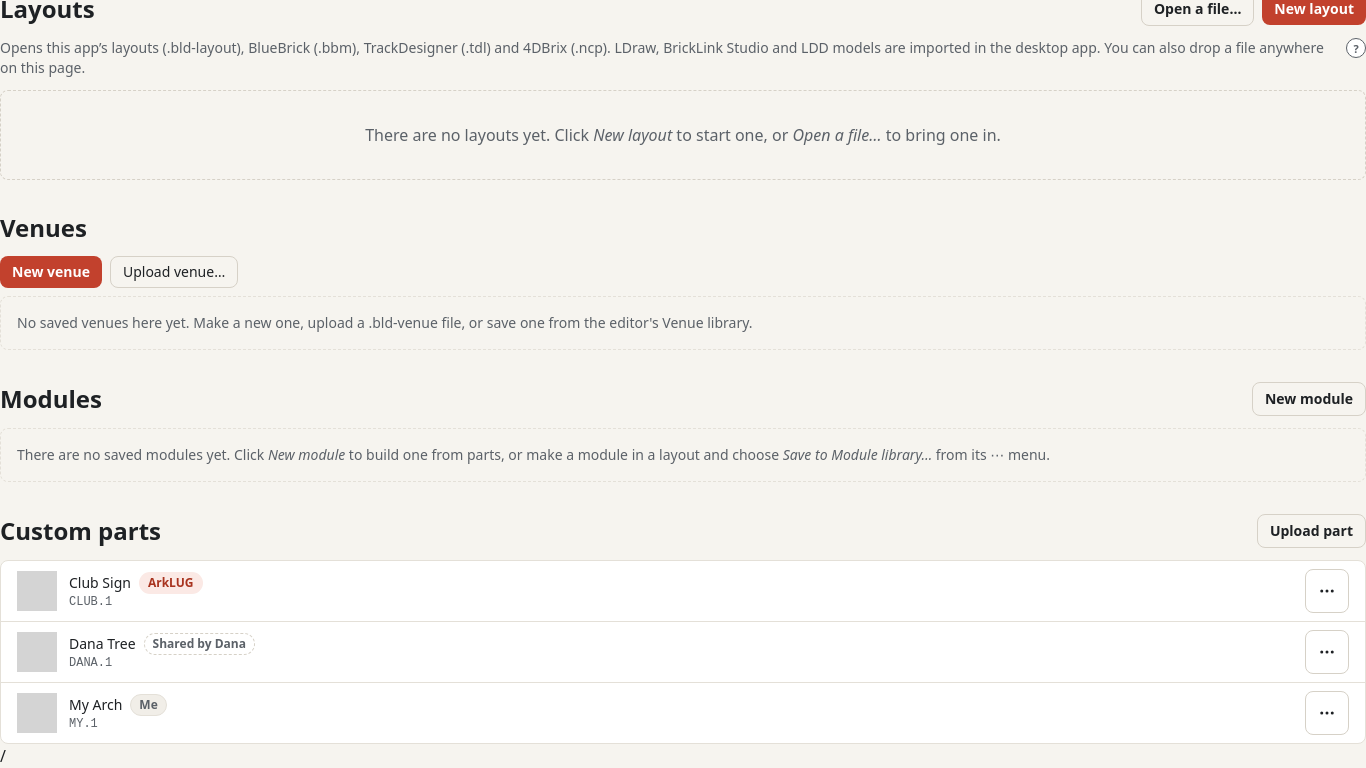
Scenario: Custom parts on the home page › the ⋯ menu shares a part with people: Share for mine, People with access for others
The image size is (1366, 768).
(page scrolled)
Click the button named "More for MY.1": (1327, 713) [1305, 691, 1349, 735]
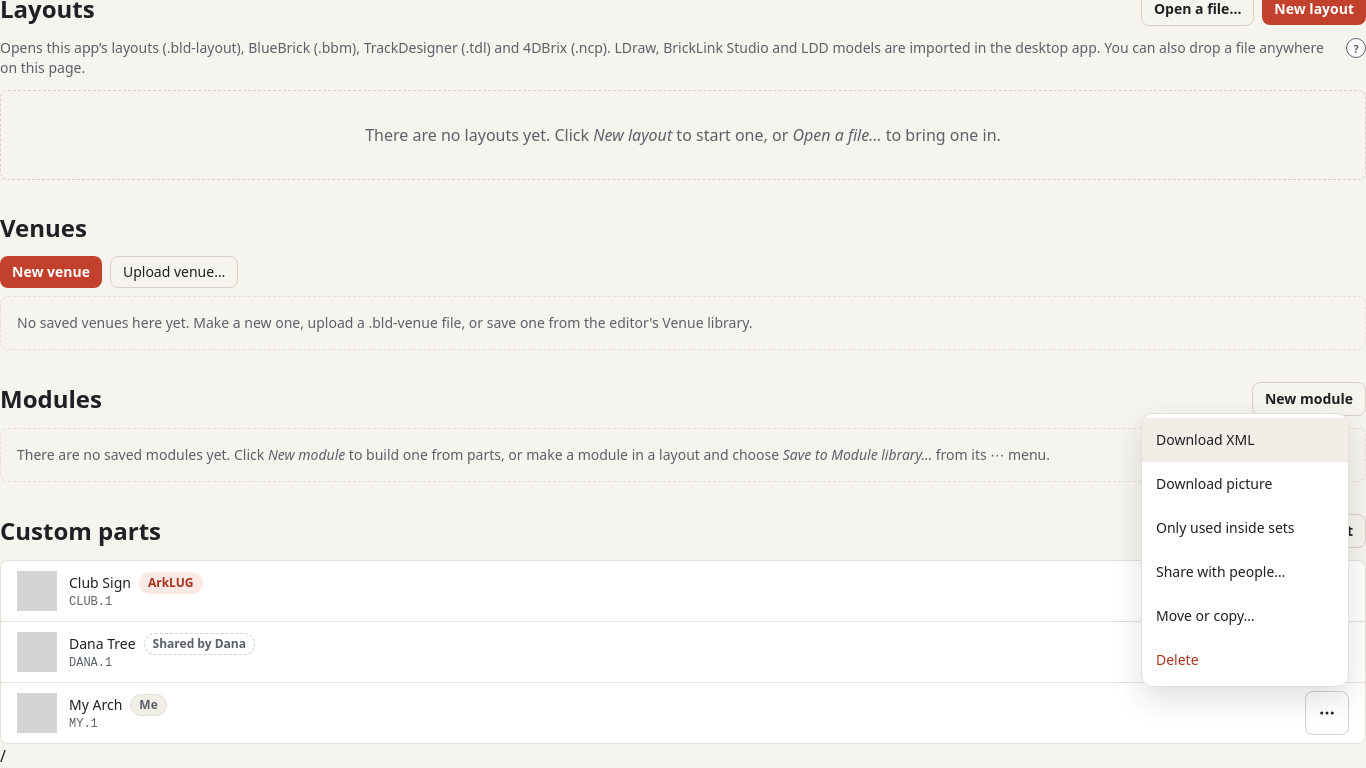
Click the menu item "Share with people…": (1245, 572) [1142, 550, 1348, 594]
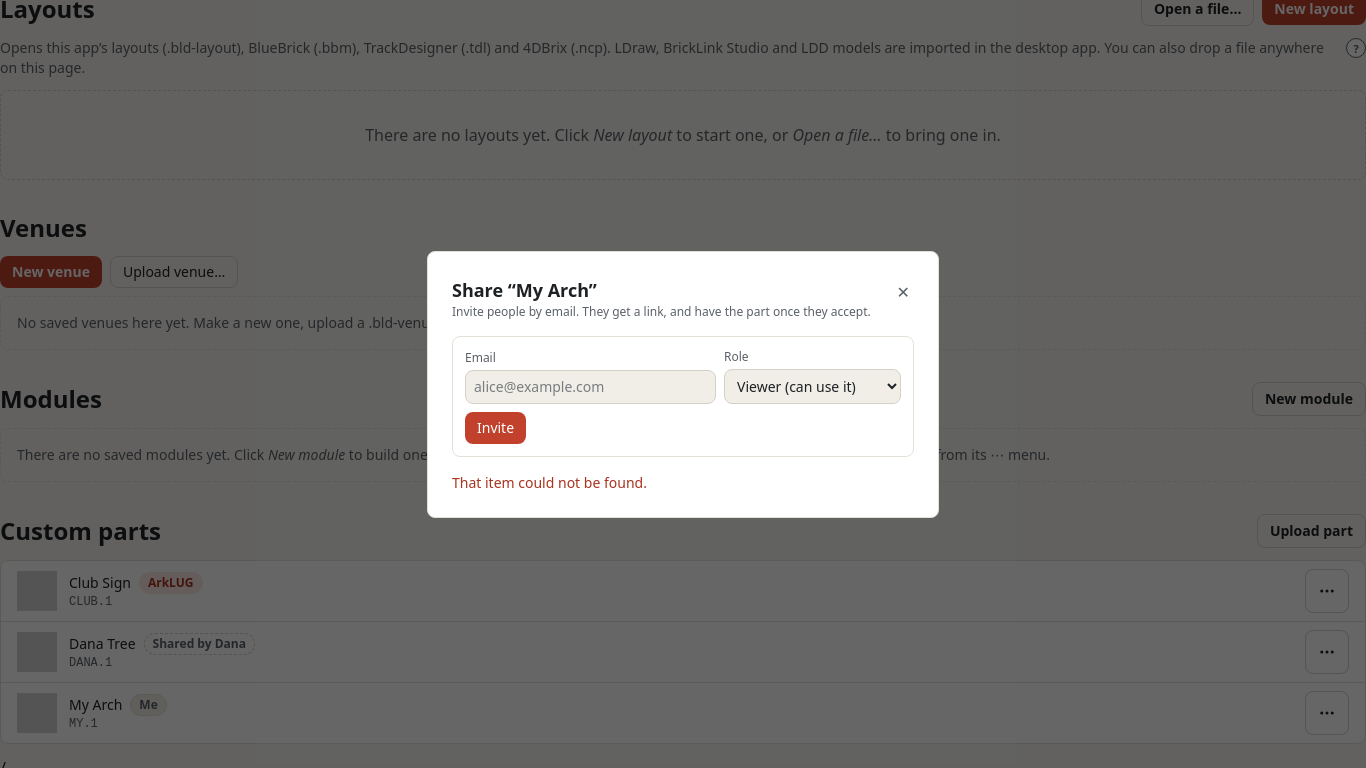
Result: the dialog named "Share My Arch" is shown at [427, 250, 939, 518]
Result: the button "Invite" is shown at [465, 412, 526, 444]
Click the button named "Close": (903, 292) [893, 276, 914, 308]
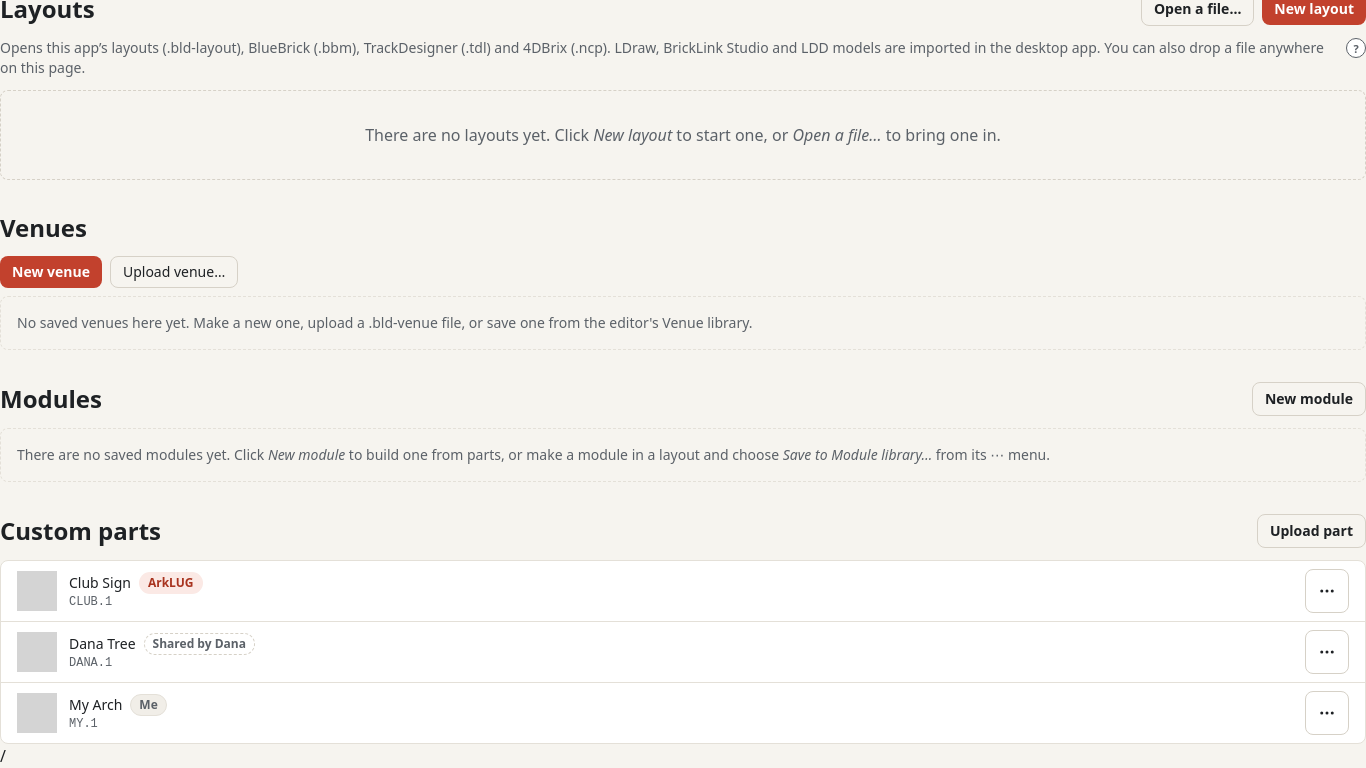
Click the button named "More for DANA.1": (1327, 652) [1305, 630, 1349, 674]
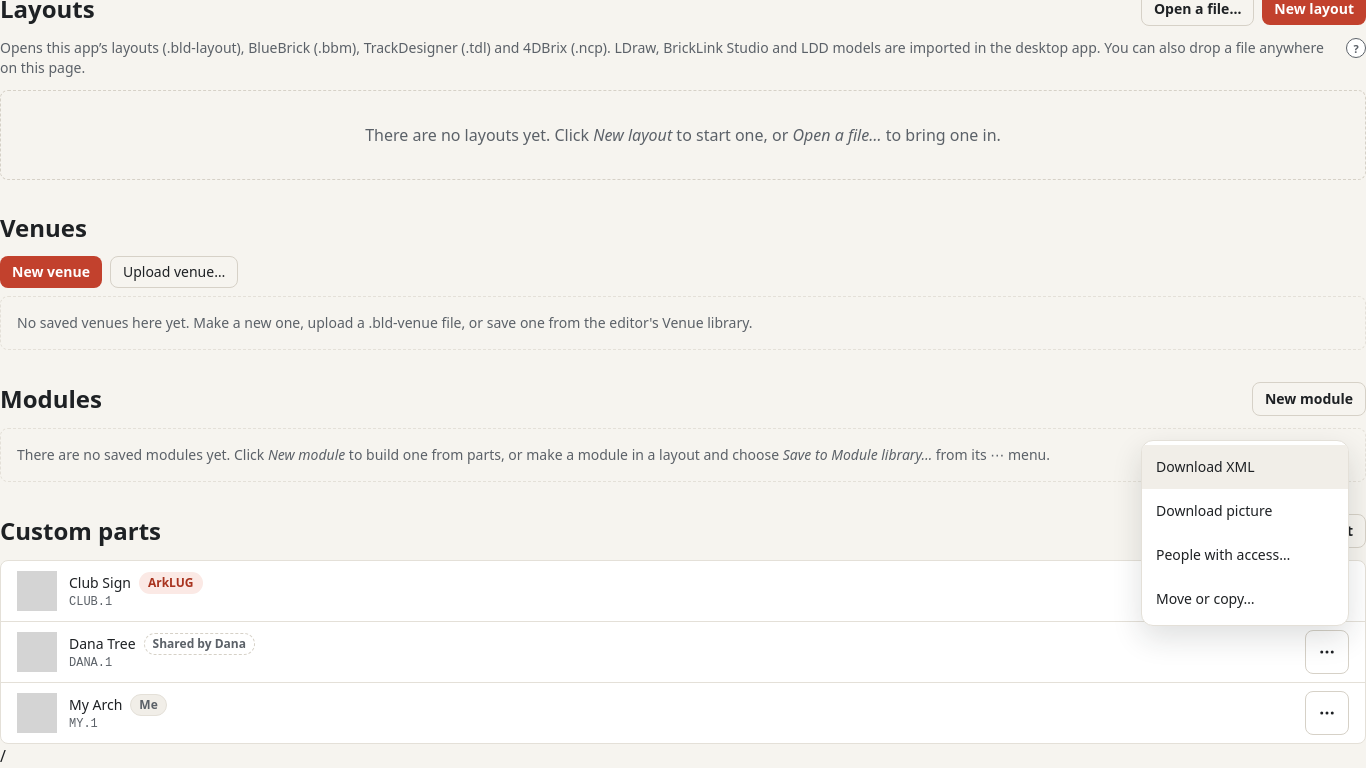
Click the menu item "People with access…": (1245, 555) [1142, 533, 1348, 577]
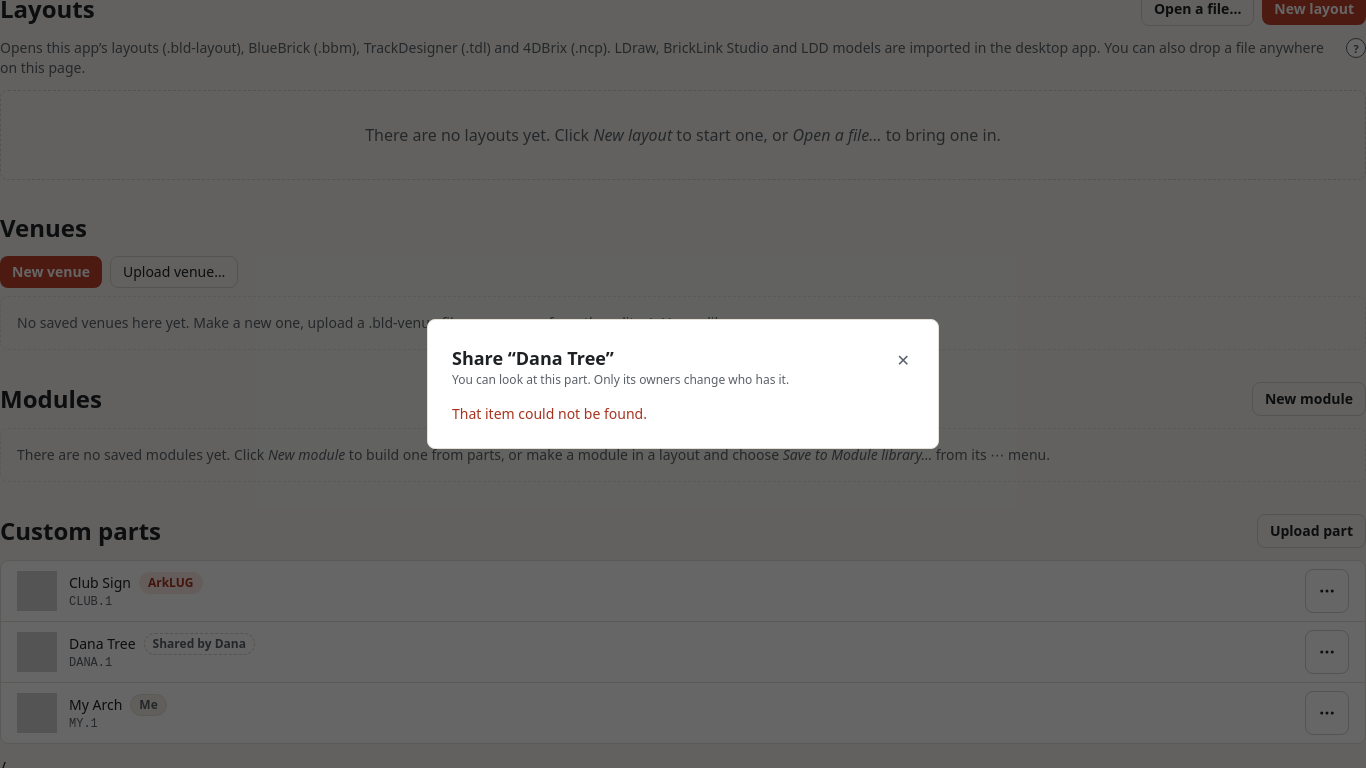
Expected: the text "Invite" is not shown
Result: the dialog named "Share Dana Tree" is shown at [427, 319, 939, 449]
